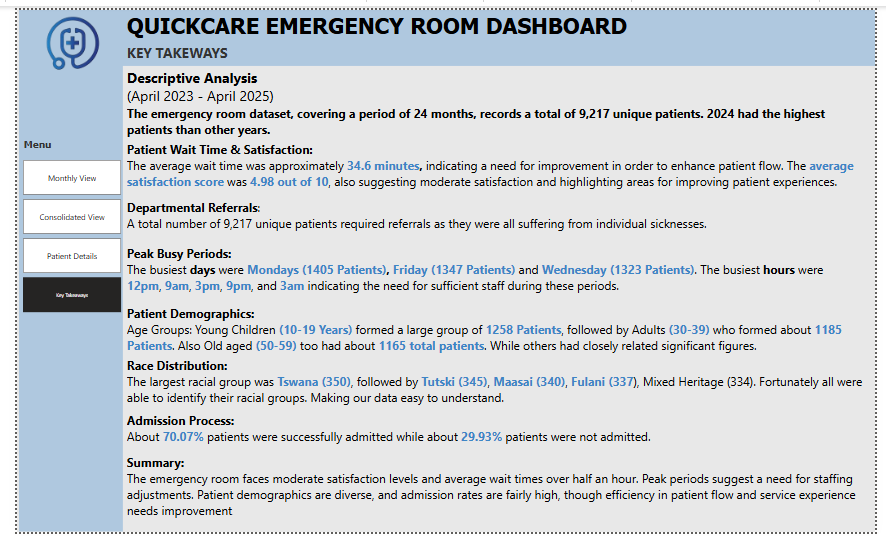

Layout of this report page (visuals, bound fields, positions):
{"tool":"powerbi","page":{"name":"Key Takeaways","canvas":[2300,1400],"ordinal":3},"visuals":[{"type":"shape","box":[5.7,0,278.6,1398.8],"z":0},{"type":"shape","box":[276.2,0,2024.9,150.2],"z":1000},{"type":"textbox","box":[288.9,0,1466.1,84.5],"z":2000},{"type":"textbox","box":[288.9,84.5,408.8,65.4],"z":3000},{"type":"textbox","box":[14,338.1,267.1,68.1],"z":8000,"group":"g1"},{"type":"image","box":[24.1,0,252.1,206.5],"z":9000},{"type":"textbox","box":[290,150.7,474.8,130.8],"z":16000},{"type":"textbox","box":[289.7,249.4,2006.1,96.6],"z":17000},{"type":"textbox","box":[290,346.8,2001.5,179.1],"z":18000},{"type":"textbox","box":[290,500.4,1961.7,147.8],"z":19000},{"type":"textbox","box":[290,625.5,1961.7,159.2],"z":20000},{"type":"textbox","box":[290,784.7,1961.7,173.4],"z":21000},{"type":"textbox","box":[290,924,2001.5,167.7],"z":22000},{"type":"textbox","box":[290,1071.8,2001.5,136.5],"z":23000},{"type":"textbox","box":[290,1185.5,2001.5,190.5],"z":24000},{"type":"group","id":"g1","title":"Group 1","box":[14,338.1,268.2,67],"z":25000},{"type":"pageNavigator","box":[15,402,263,411],"z":26000}]}

Visuals, with their boxes on the page's 2300x1400 design canvas (x1, y1, x2, y2). These are canvas units, not pixel positions in the 886x536 screenshot, which may show the page scaled, cropped or inside an application window:
shape: box(6, 0, 284, 1399)
shape: box(276, 0, 2301, 150)
textbox: box(289, 0, 1755, 84)
textbox: box(289, 84, 698, 150)
textbox: box(14, 338, 281, 406)
image: box(24, 0, 276, 206)
textbox: box(290, 151, 765, 282)
textbox: box(290, 249, 2296, 346)
textbox: box(290, 347, 2292, 526)
textbox: box(290, 500, 2252, 648)
textbox: box(290, 626, 2252, 785)
textbox: box(290, 785, 2252, 958)
textbox: box(290, 924, 2292, 1092)
textbox: box(290, 1072, 2292, 1208)
textbox: box(290, 1186, 2292, 1376)
"Group 1" group: box(14, 338, 282, 405)
pageNavigator: box(15, 402, 278, 813)
